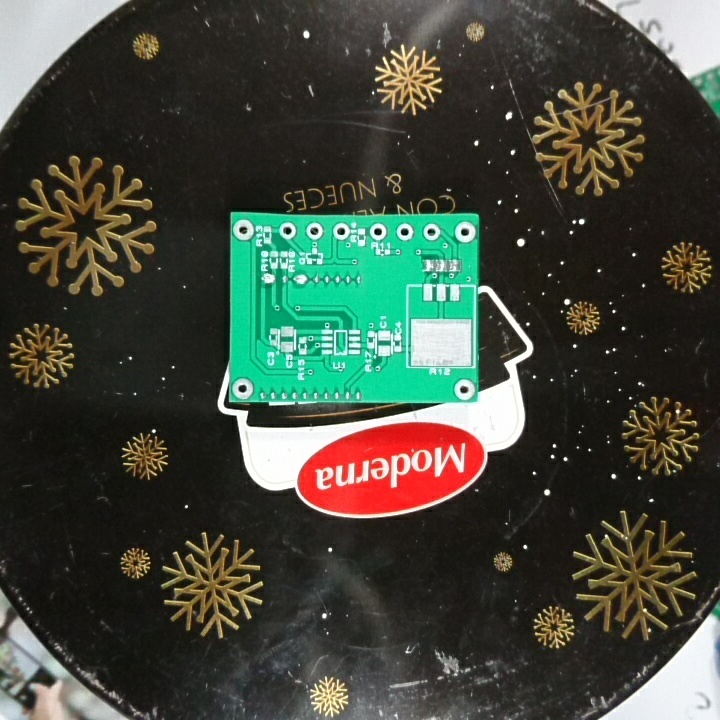F: (452, 220, 477, 247), (230, 375, 255, 402), (451, 378, 477, 400), (420, 222, 444, 244), (232, 218, 254, 241), (277, 220, 298, 243), (394, 222, 415, 242), (368, 222, 389, 242), (331, 221, 351, 242), (304, 222, 325, 241)
P: (259, 271, 277, 288), (291, 272, 309, 288)
